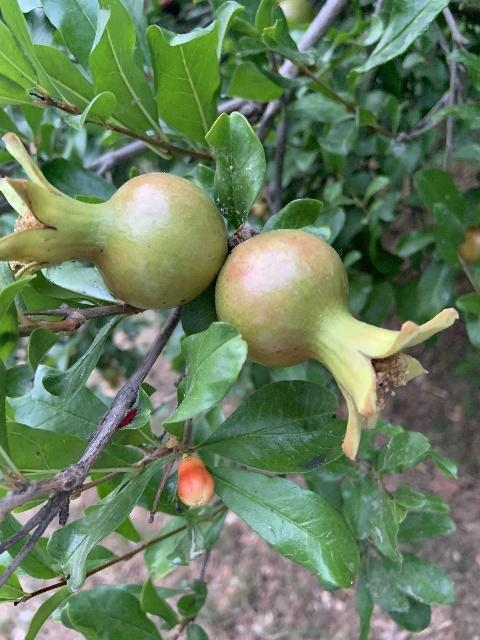bud: (177, 456, 214, 508)
early-fruit: (213, 229, 457, 462)
mid-growth: (0, 130, 226, 310)
